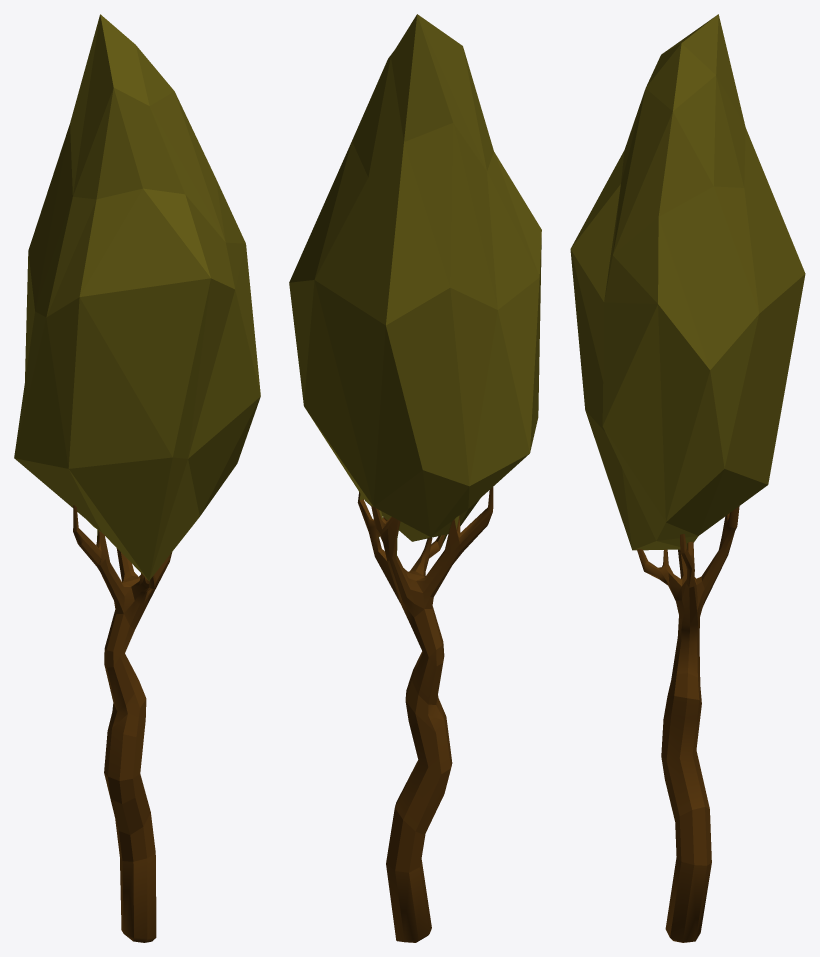
File: Tree03_JT 1.fbx
3 renders of one model, left to right at view 1: azimuth 30°, elevation 25°; view 2: azimuth 150°, elevation 25°; view 3: azimuth 270°, elevation 25°, orthographic. The views are drawn at different scales.
Parts seen in each view (by area): view 1: Tree03_JT; view 2: Tree03_JT; view 3: Tree03_JT.
Part boxes in pixels (<box>): Tree03_JT: <box>14,14,260,942</box>; Tree03_JT: <box>289,14,541,942</box>; Tree03_JT: <box>570,14,805,942</box>.
Bounding box in the file's own units: 152 × 592 × 138.
